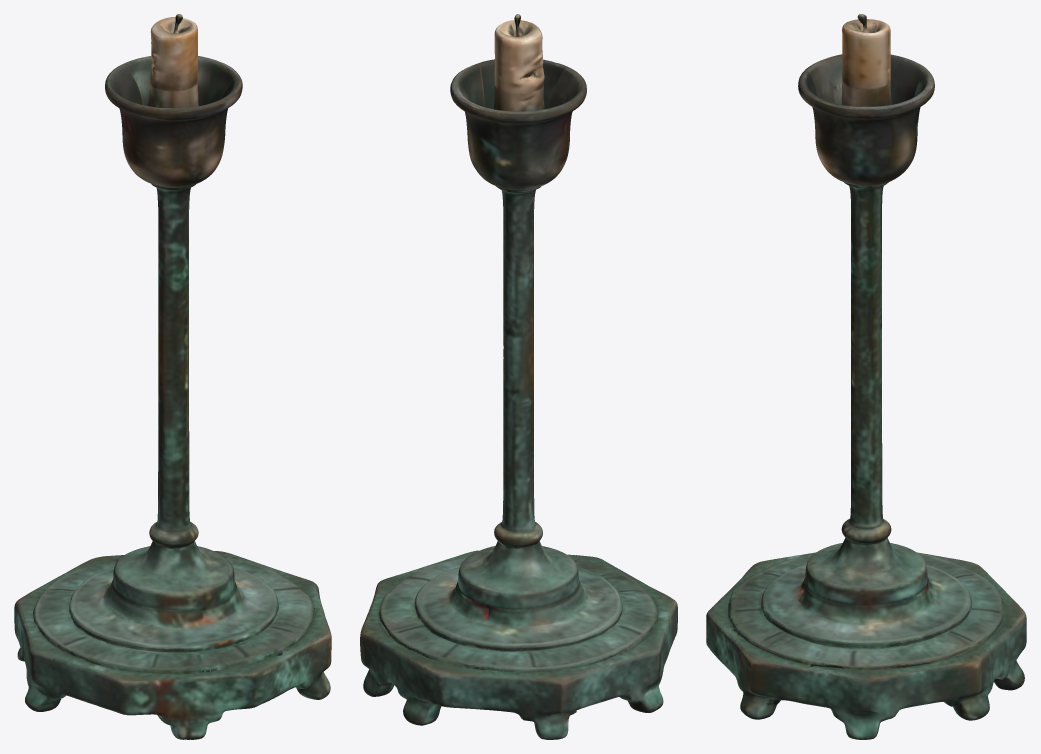
Rendered from S1-05_candlestand_A.glb.
The picture shows the model from 3 angles, left to right: view 1: azimuth 30°, elevation 25°; view 2: azimuth 150°, elevation 25°; view 3: azimuth 270°, elevation 25°; orthographic projection.
Parts seen in each view (by area): view 1: geometry_0; view 2: geometry_0; view 3: geometry_0.
Part boxes in pixels (x1,y1,x2,y2): geometry_0: (14,14,331,739); geometry_0: (360,14,677,739); geometry_0: (706,14,1026,739).
Bounding box in the file's own units: 0.5429 × 1.2 × 0.5281.
1 material, 1 textured.
